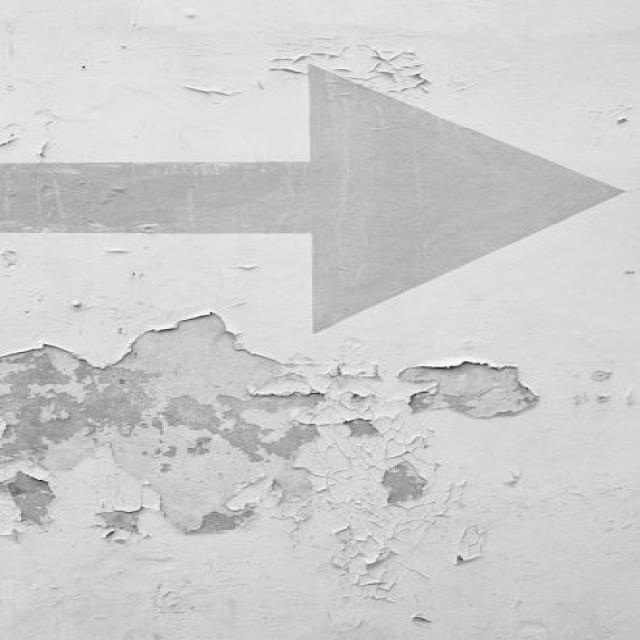peeling paint: (0, 23, 640, 640)
